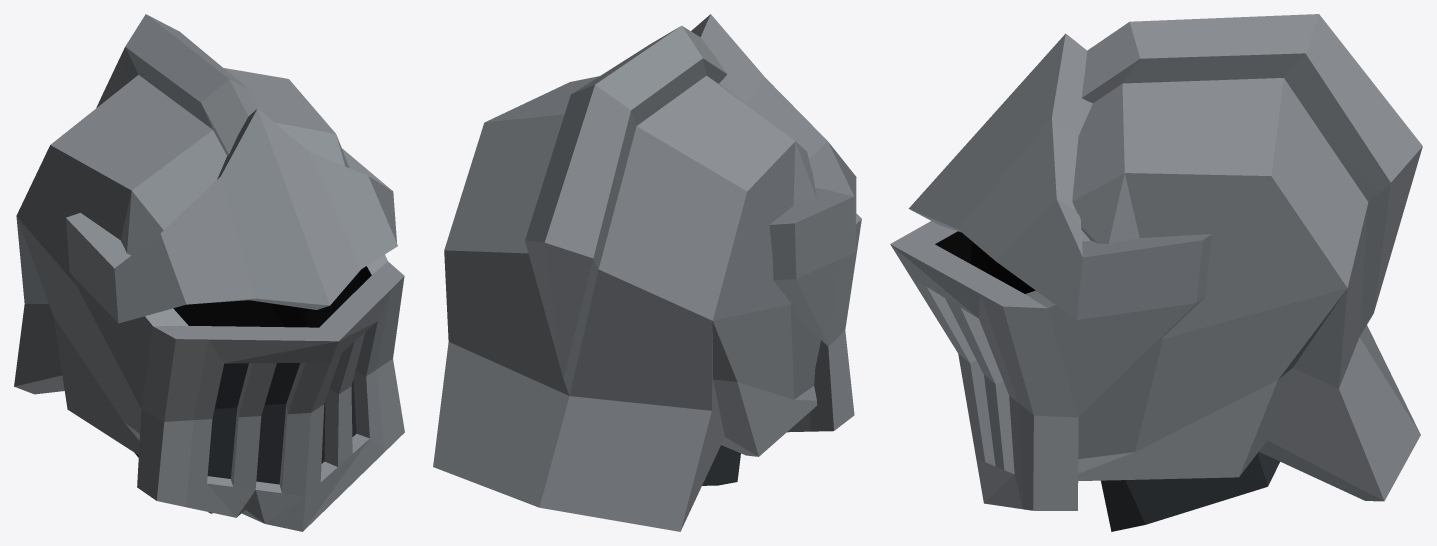
The model's file is Chr_Head_No_Elements_Male_04_Static.fbx.
The picture shows the model from 3 angles, left to right: view 1: azimuth 30°, elevation 25°; view 2: azimuth 150°, elevation 25°; view 3: azimuth 270°, elevation 25°; orthographic projection. The views are drawn at different scales.
Parts seen in each view (by area): view 1: Chr_Head_No_Elements_Male_04_Static; view 2: Chr_Head_No_Elements_Male_04_Static; view 3: Chr_Head_No_Elements_Male_04_Static.
Boxes of the visible parts, x1=… form: Chr_Head_No_Elements_Male_04_Static: x1=14, y1=14, x2=404, y2=531; Chr_Head_No_Elements_Male_04_Static: x1=433, y1=14, x2=861, y2=531; Chr_Head_No_Elements_Male_04_Static: x1=890, y1=14, x2=1422, y2=531.
Bounding box in the file's own units: 0.2809 × 0.4088 × 0.3957.
